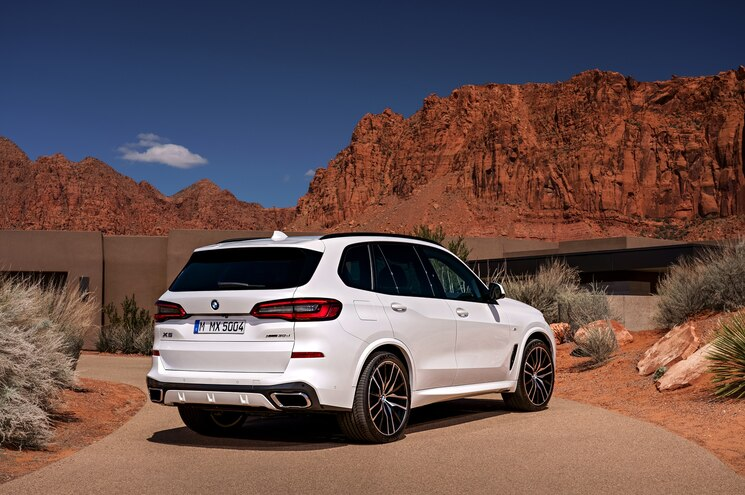bmw: (147, 237, 563, 444)
